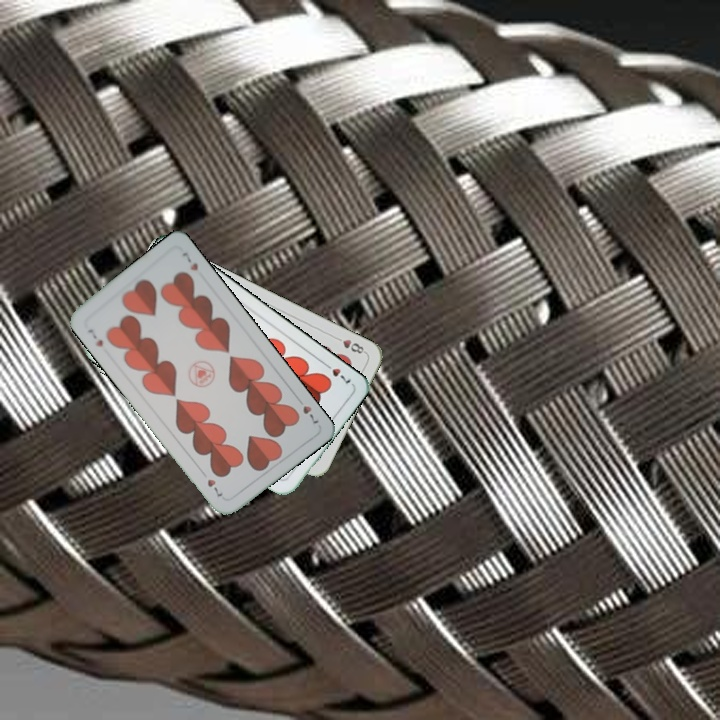H7: (319, 358, 354, 386), (292, 394, 321, 426), (84, 325, 106, 349)
H8: (330, 332, 368, 356)
